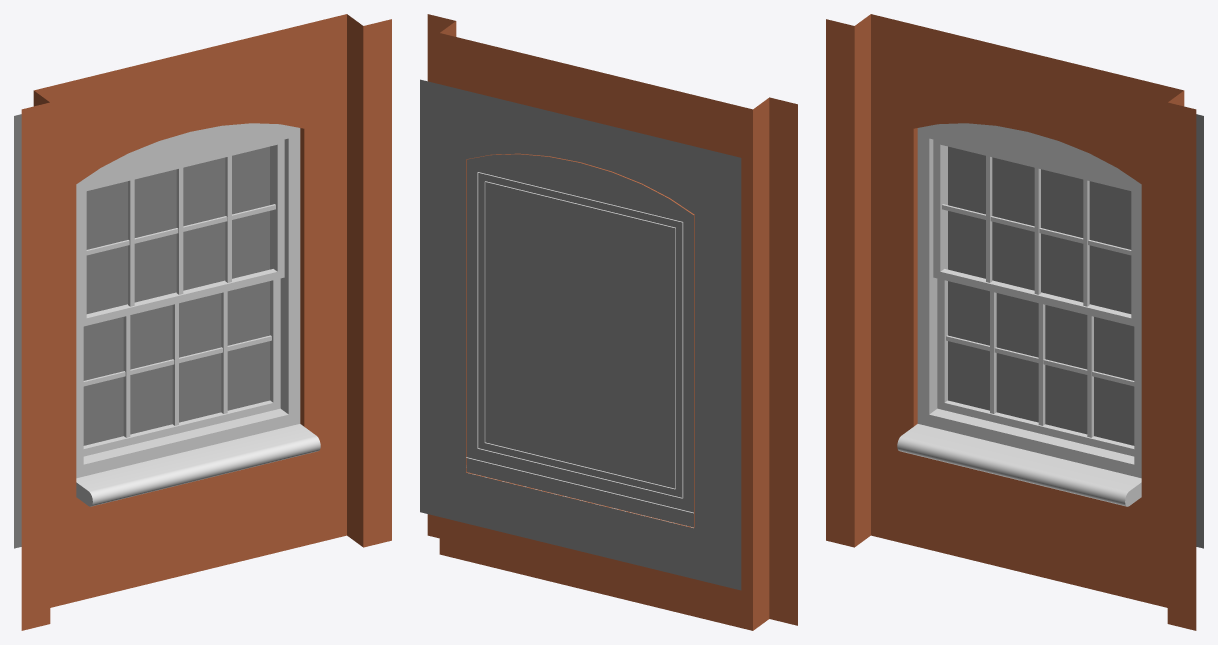
File: object_B3_Top_floor_window.glb
3 renders of one model, left to right at view 1: azimuth 30°, elevation 25°; view 2: azimuth 150°, elevation 25°; view 3: azimuth 330°, elevation 25°, orthographic.
Parts seen in each view (by area): view 1: B3 Top floor window; view 2: B3 Top floor window; view 3: B3 Top floor window.
Part boxes in pixels (x1,y1,x2,y2): B3 Top floor window: (14,14,391,630); B3 Top floor window: (420,14,797,630); B3 Top floor window: (826,14,1203,630).
Size of the model in its own units: 2.6 by 3.5 by 0.4.
